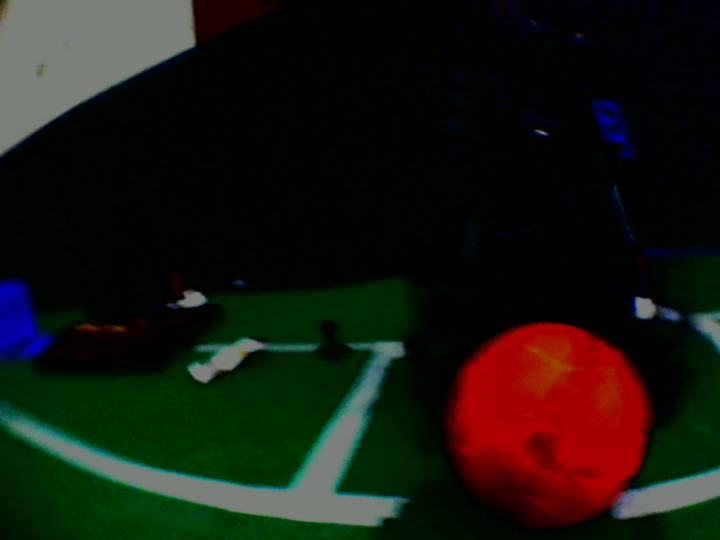bola: (422, 317, 666, 537)
